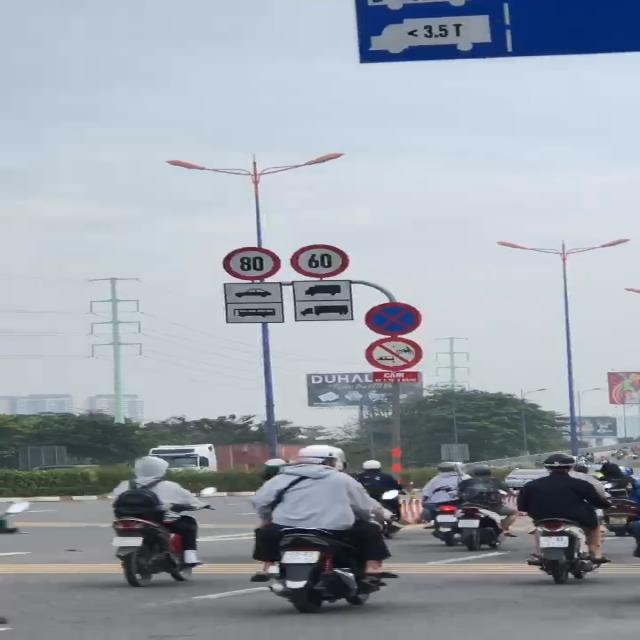Bien bao cam dung xe va do xe: (360, 301, 424, 337)
Bien bao toc do toi da cho phep: (287, 243, 353, 281), (218, 246, 282, 283)
